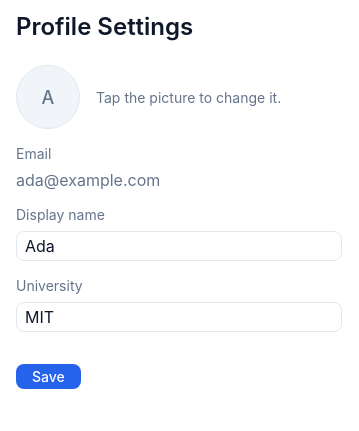
Scenario: saving the display name and university
The image size is (359, 431).
Replace the text in the 1st field showing "Ada" with "Ada Lovelace" at (179, 246), box [16,231,342,261]
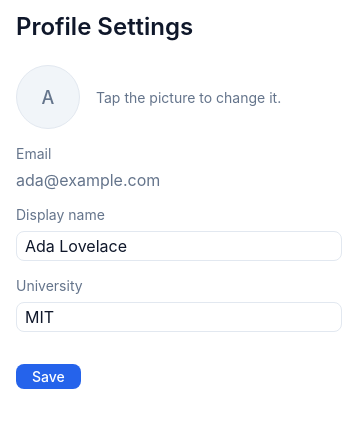
Replace the text in the 2nd field showing "MIT" with "Cambridge" at (179, 317), box [16,302,342,332]
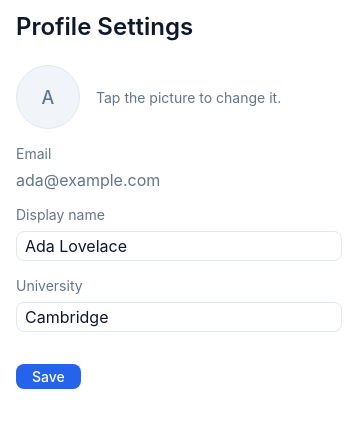
Click the button "Save" at (48, 376), box [16,364,81,389]
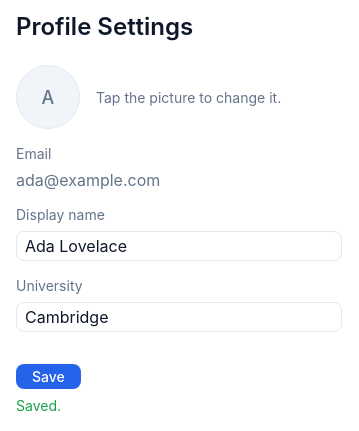
Now the text "Saved." is shown, box [16,397,61,414]
